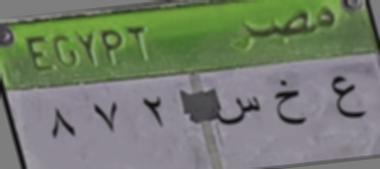2: (140, 91, 168, 134)
7: (88, 94, 122, 143)
8: (43, 106, 79, 146)
ain: (326, 67, 366, 129)
khaa: (268, 75, 314, 138)
seen: (210, 86, 263, 132)
